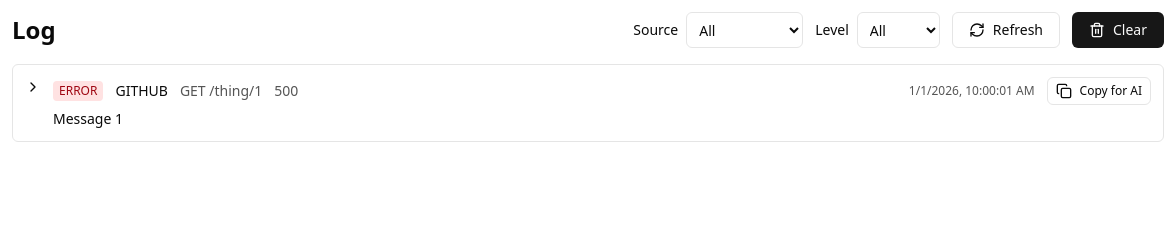
it: Log page › refresh picks up new entries
expect the list item with test id "log-entry" is shown: met, box [12,64,1164,142]
Click the button "Refresh". click: (1006, 30)
box: [952,12,1060,48]
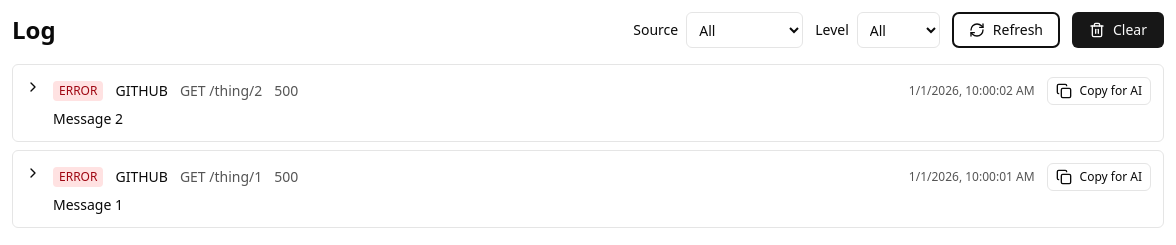
expect the number of list items with test id "log-entry" is 2: met, box [12,64,1164,142]; [12,150,1164,228]
